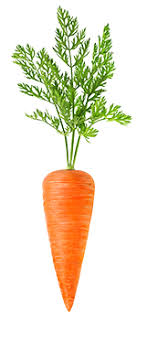carrot: (37, 166, 100, 316)
